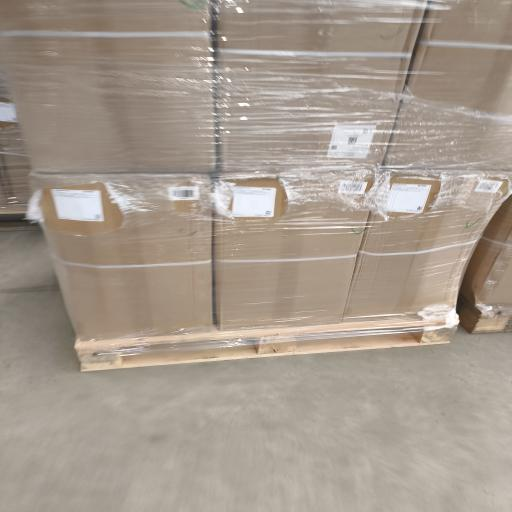pallet: (76, 319, 456, 371), (459, 303, 511, 333), (0, 210, 39, 231)
